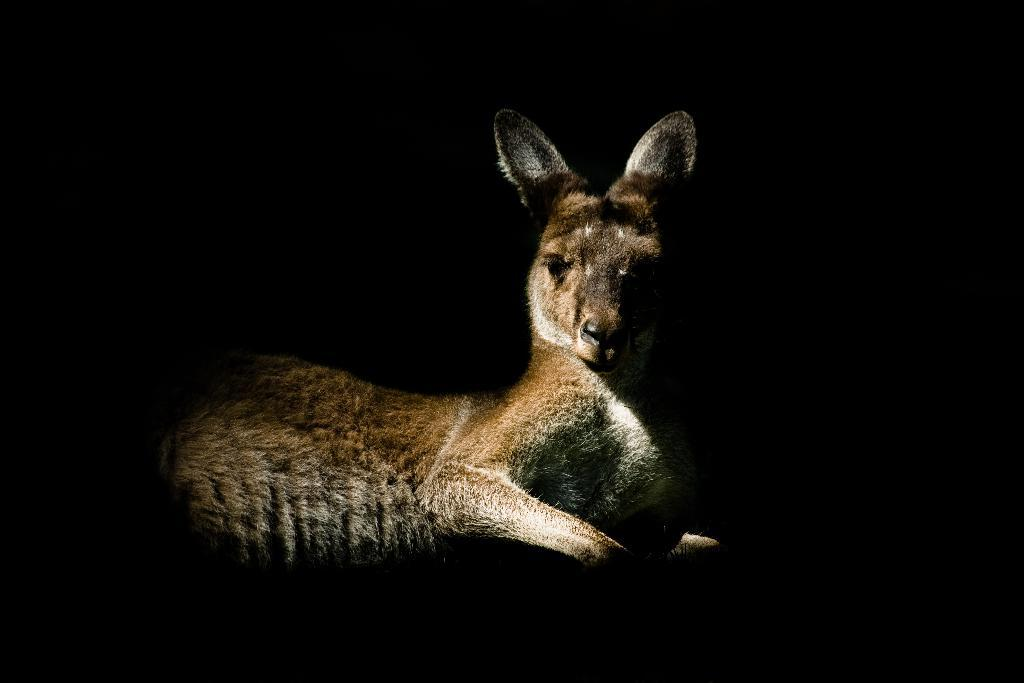kangaroo: (154, 102, 720, 574)
